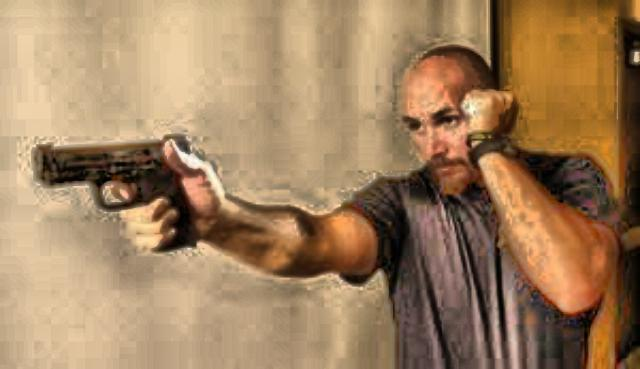pistol: (20, 124, 206, 260)
